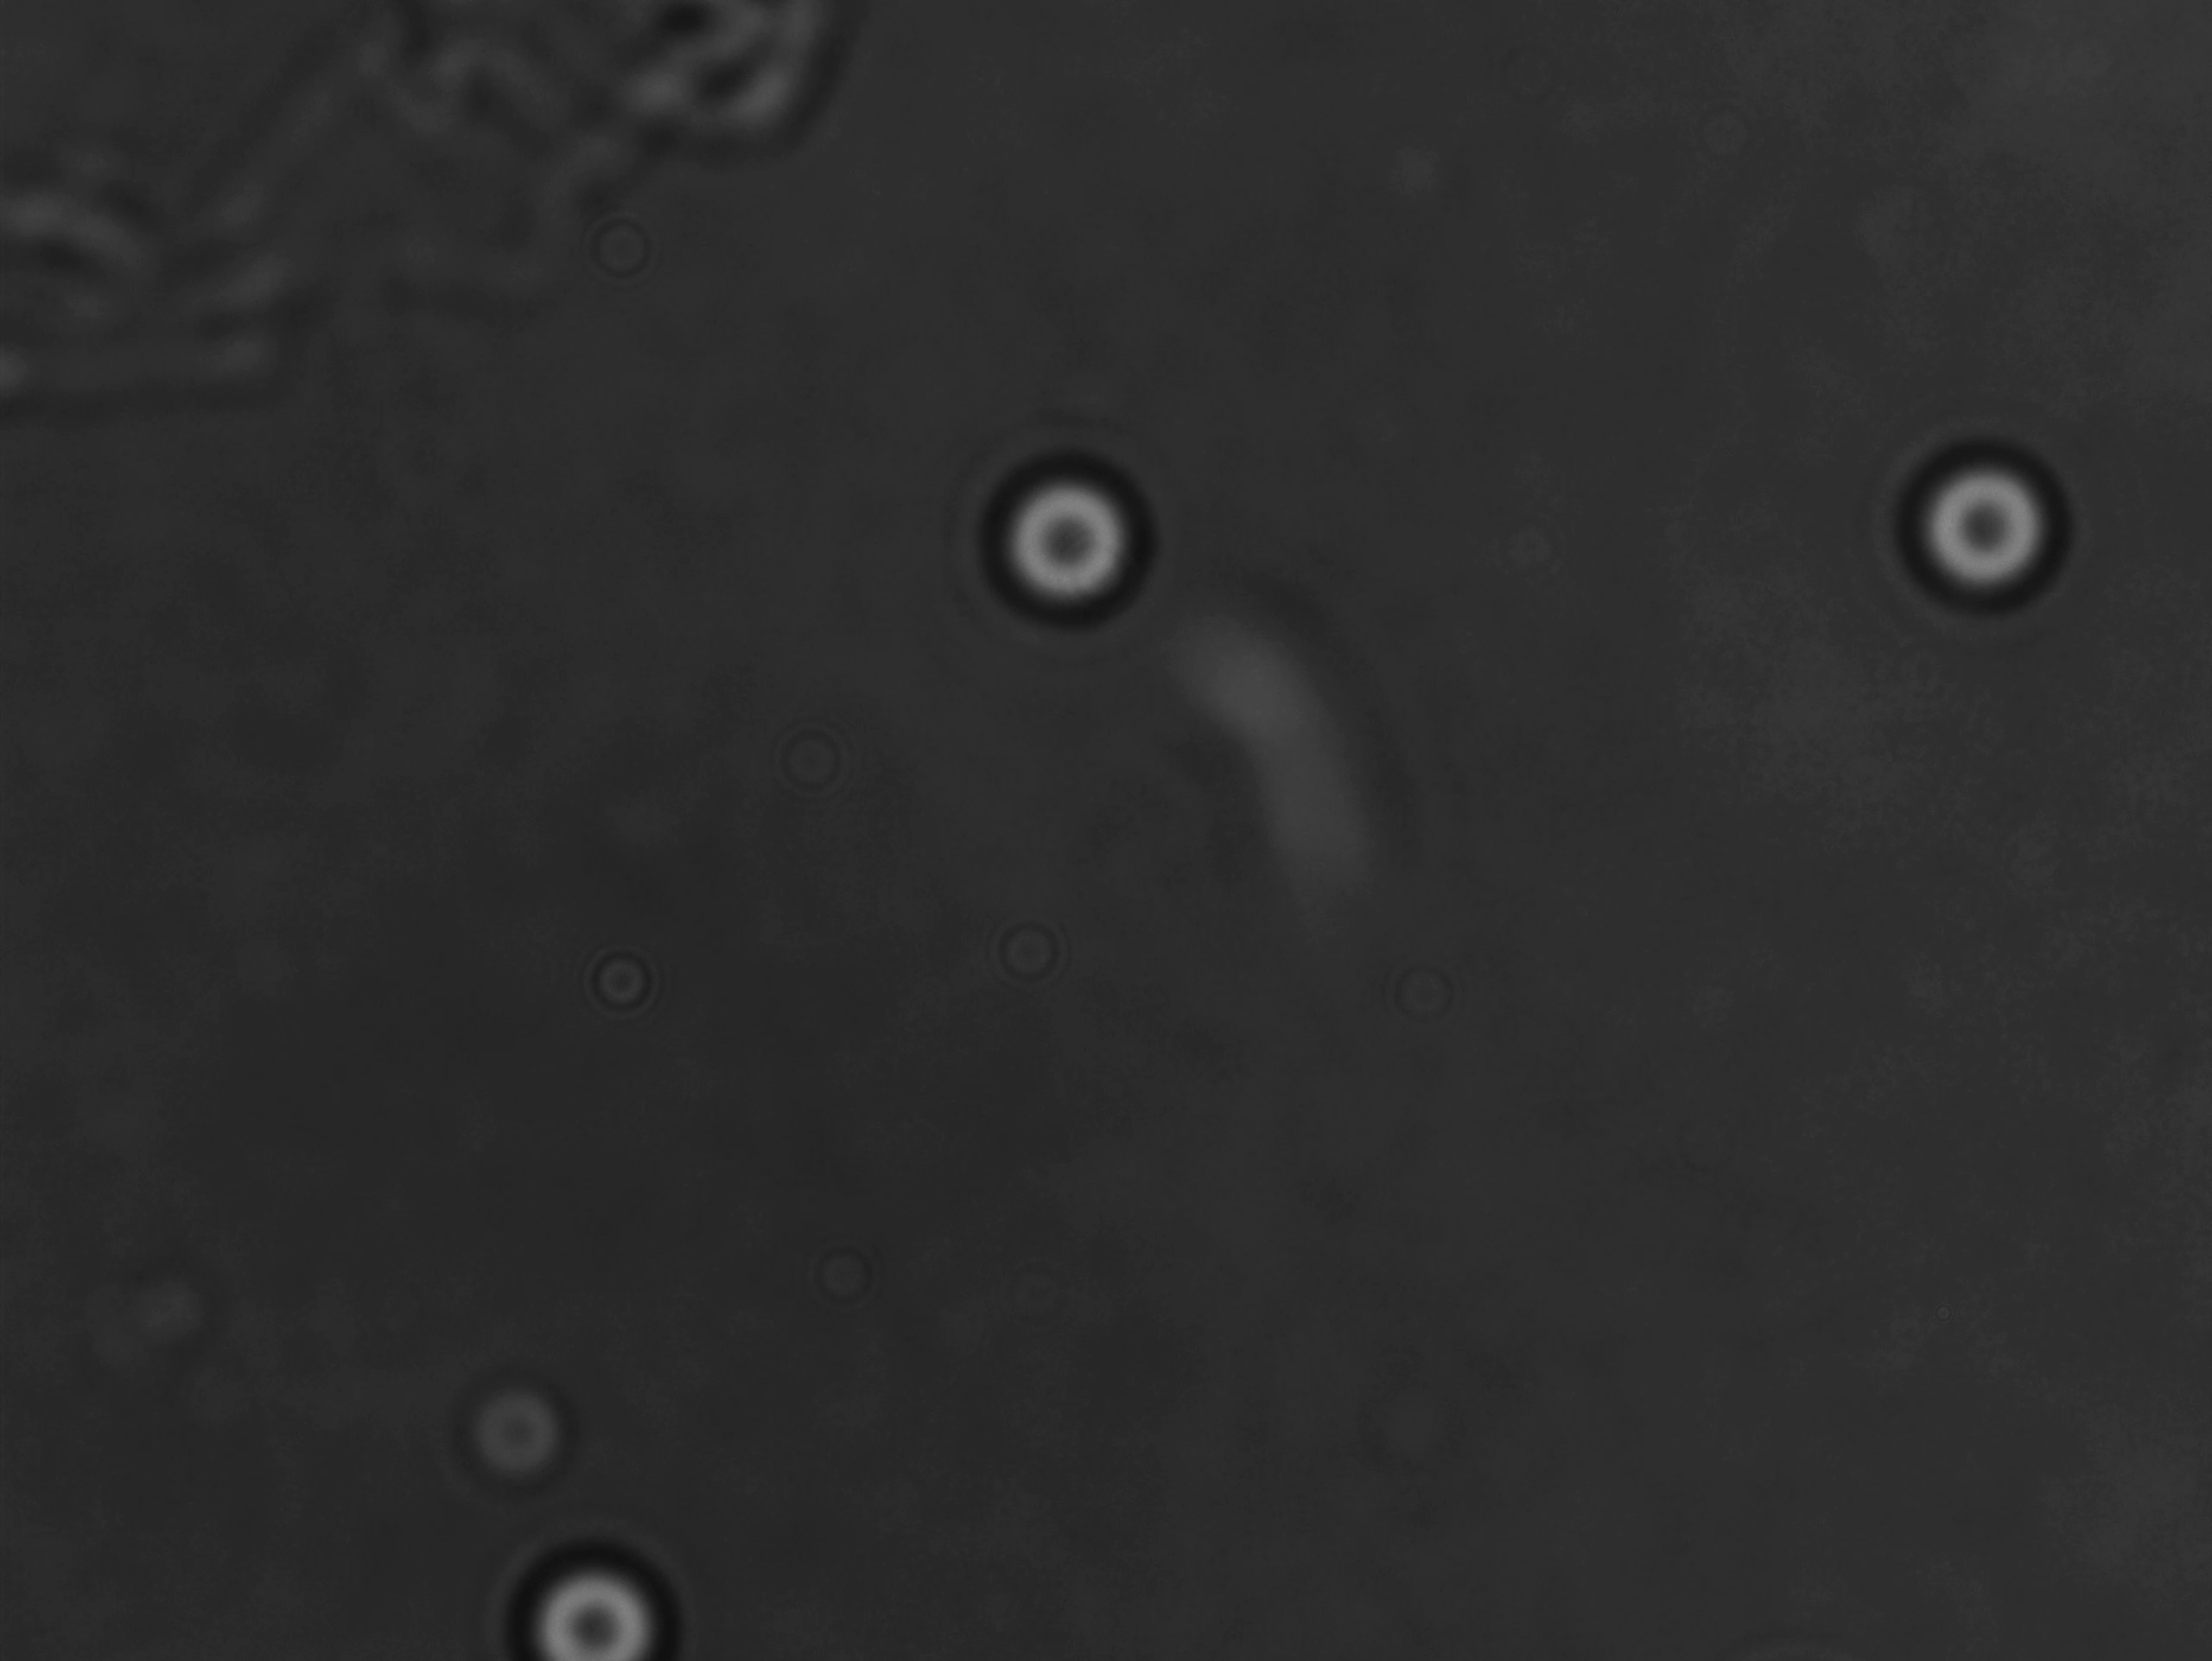depth:80: (961, 433, 1186, 646), (1879, 420, 2100, 632), (488, 1520, 696, 1661)
